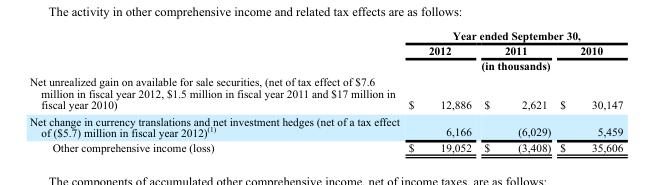table: (28, 28, 622, 153)
table column: (28, 28, 403, 153), (477, 28, 554, 153), (403, 28, 477, 153), (554, 28, 622, 153)
table column header: (28, 28, 622, 73)
table row: (28, 73, 622, 112), (28, 112, 622, 139), (28, 57, 622, 73), (28, 42, 622, 57), (28, 28, 622, 42), (28, 139, 622, 153)
table spanning cell: (403, 57, 622, 73), (403, 28, 622, 42)
